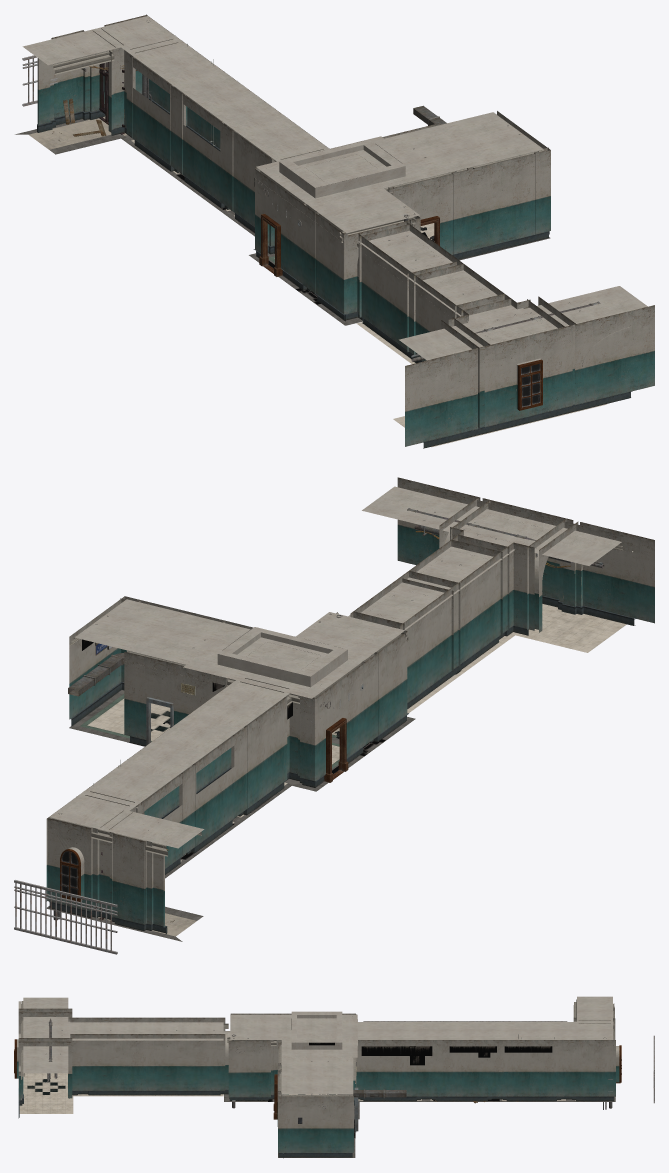
File: st4_217_0_terrain_00ms.fbx
3 views of the same model, one above another, from view 1: azimuth 30°, elevation 25°; view 2: azimuth 150°, elevation 25°; view 3: azimuth 270°, elevation 25° (orthographic). The views are drawn at different scales.
Parts seen in each view (by area): view 1: LOD_1_Group_0_Sub_4__st2_police1fLeftWall01, LOD_1_Group_0_Sub_10__st2_police1fLeftCeiling01, LOD_1_Group_0_Sub_6__st2_police1fLeftCeiling04, LOD_1_Group_0_Sub_1__st2_police1fLeftFloor09, LOD_1_Group_0_Sub_13__st2_police1fLeftDoor02, LOD_1_Group_0_Sub_8__st2_police1fLeftWindow01_G, LOD_1_Group_0_Sub_7__st2_police1fLeftWindow01; view 2: LOD_1_Group_0_Sub_4__st2_police1fLeftWall01, LOD_1_Group_0_Sub_10__st2_police1fLeftCeiling01, LOD_1_Group_0_Sub_6__st2_police1fLeftCeiling04, LOD_1_Group_0_Sub_3__st2_police1fLeftFloor08, LOD_1_Group_0_Sub_1__st2_police1fLeftFloor09, LOD_1_Group_0_Sub_23__st1_townPoliceFence01_Mat, LOD_1_Group_0_Sub_2__st2_police1fLeftFloor01, LOD_1_Group_0_Sub_13__st2_police1fLeftDoor02, LOD_1_Group_0_Sub_22__st2_police1fLeftPipeline02, LOD_1_Group_0_Sub_21__st2_police1fLeftPipeline01; view 3: LOD_1_Group_0_Sub_4__st2_police1fLeftWall01, LOD_1_Group_0_Sub_10__st2_police1fLeftCeiling01, LOD_1_Group_0_Sub_6__st2_police1fLeftCeiling04, LOD_1_Group_0_Sub_26__st2_Dirt01, LOD_1_Group_0_Sub_3__st2_police1fLeftFloor08, LOD_1_Group_0_Sub_2__st2_police1fLeftFloor01, LOD_1_Group_0_Sub_1__st2_police1fLeftFloor09, LOD_1_Group_0_Sub_22__st2_police1fLeftPipeline02.
Boxes of the visible parts, box(x1,y1,x2,y2) form: LOD_1_Group_0_Sub_4__st2_police1fLeftWall01: box(37, 14, 654, 446); LOD_1_Group_0_Sub_10__st2_police1fLeftCeiling01: box(22, 16, 647, 360); LOD_1_Group_0_Sub_6__st2_police1fLeftCeiling04: box(37, 50, 633, 448); LOD_1_Group_0_Sub_1__st2_police1fLeftFloor09: box(15, 115, 550, 325); LOD_1_Group_0_Sub_13__st2_police1fLeftDoor02: box(259, 213, 439, 276); LOD_1_Group_0_Sub_8__st2_police1fLeftWindow01_G: box(521, 363, 540, 407); LOD_1_Group_0_Sub_7__st2_police1fLeftWindow01: box(518, 359, 542, 410); LOD_1_Group_0_Sub_4__st2_police1fLeftWall01: box(46, 477, 654, 927); LOD_1_Group_0_Sub_10__st2_police1fLeftCeiling01: box(49, 486, 621, 848); LOD_1_Group_0_Sub_6__st2_police1fLeftCeiling04: box(49, 543, 637, 934); LOD_1_Group_0_Sub_3__st2_police1fLeftFloor08: box(87, 606, 626, 861); LOD_1_Group_0_Sub_1__st2_police1fLeftFloor09: box(46, 690, 415, 941); LOD_1_Group_0_Sub_23__st1_townPoliceFence01_Mat: box(14, 880, 117, 954); LOD_1_Group_0_Sub_2__st2_police1fLeftFloor01: box(109, 604, 553, 854); LOD_1_Group_0_Sub_13__st2_police1fLeftDoor02: box(324, 718, 348, 782); LOD_1_Group_0_Sub_22__st2_police1fLeftPipeline02: box(68, 653, 124, 696); LOD_1_Group_0_Sub_21__st2_police1fLeftPipeline01: box(95, 508, 604, 850); LOD_1_Group_0_Sub_4__st2_police1fLeftWall01: box(17, 1001, 619, 1152); LOD_1_Group_0_Sub_10__st2_police1fLeftCeiling01: box(23, 996, 612, 1094); LOD_1_Group_0_Sub_6__st2_police1fLeftCeiling04: box(18, 999, 614, 1158); LOD_1_Group_0_Sub_26__st2_Dirt01: box(230, 1019, 552, 1138); LOD_1_Group_0_Sub_3__st2_police1fLeftFloor08: box(19, 1073, 565, 1113); LOD_1_Group_0_Sub_2__st2_police1fLeftFloor01: box(23, 1078, 433, 1100); LOD_1_Group_0_Sub_1__st2_police1fLeftFloor09: box(224, 1094, 615, 1157); LOD_1_Group_0_Sub_22__st2_police1fLeftPipeline02: box(337, 1089, 406, 1098).
Size of the model in its own units: 15.88 by 5.09 by 37.65.
